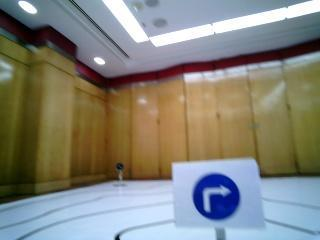right: (179, 168, 248, 219)
